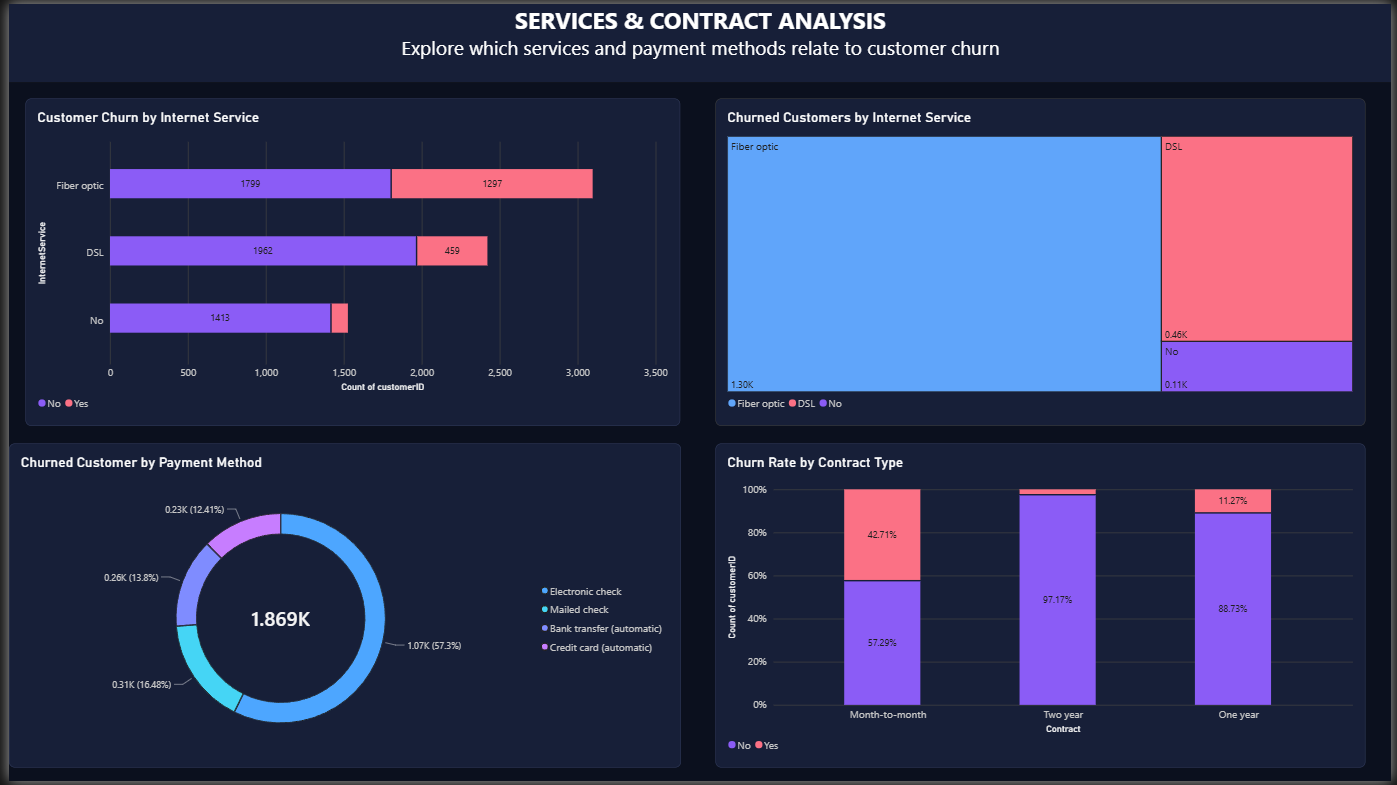

The dashboard page shown, as its layout file describes it:
{"tool":"powerbi","page":{"name":"service analysis","canvas":[1920,1080],"ordinal":2},"visuals":[{"type":"shape","box":[0,0,1920.8,108.3],"z":0},{"type":"textbox","box":[0,0,1920.8,108.3],"z":1000},{"type":"barChart","title":"Customer Churn by Internet Service","fields":{"Category":["Telco-Customer-Churn.InternetService"],"Series":["Telco-Customer-Churn.Churn"],"Y":["CountNonNull(Telco-Customer-Churn.customerID)"]},"box":[23.8,131,909.5,454.8],"z":2000},{"type":"donutChart","title":"Churned Customer by Payment Method","fields":{"Category":["Telco-Customer-Churn.PaymentMethod"],"Y":["CountNonNull(Telco-Customer-Churn.customerID)"]},"box":[0,609.5,933.3,450],"z":3000},{"type":"hundredPercentStackedColumnChart","title":"Churn Rate by Contract Type","fields":{"Category":["Telco-Customer-Churn.Contract"],"Series":["Telco-Customer-Churn.Churn"],"Y":["Count(Telco-Customer-Churn.customerID)"]},"box":[981,609.5,902.4,450],"z":4000},{"type":"treemap","title":"Churned Customers by Internet Service","fields":{"Group":["Telco-Customer-Churn.InternetService"],"Values":["Count(Telco-Customer-Churn.customerID)"]},"box":[981,131,902.4,454.8],"z":4001}]}

Visuals, with their boxes in screenshot pixels (x1, y1, x2, y2), scaled from the page's 1920x1080 canvas onto the 1397x785 screenshot:
shape: <bbox>0, 0, 1396, 79</bbox>
textbox: <bbox>0, 0, 1396, 79</bbox>
"Customer Churn by Internet Service" barChart: <bbox>17, 95, 679, 426</bbox>
"Churned Customer by Payment Method" donutChart: <bbox>0, 443, 679, 770</bbox>
"Churn Rate by Contract Type" hundredPercentStackedColumnChart: <bbox>714, 443, 1370, 770</bbox>
"Churned Customers by Internet Service" treemap: <bbox>714, 95, 1370, 426</bbox>
